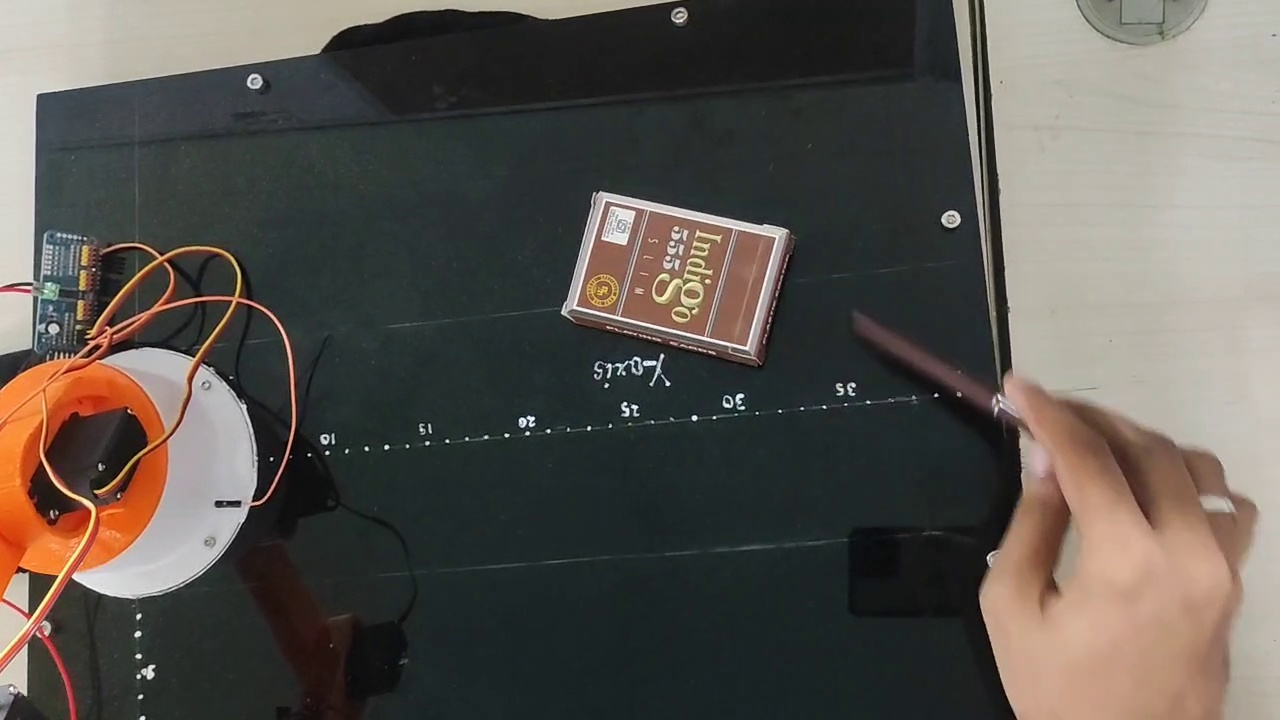BEX: (573, 195, 782, 350)
